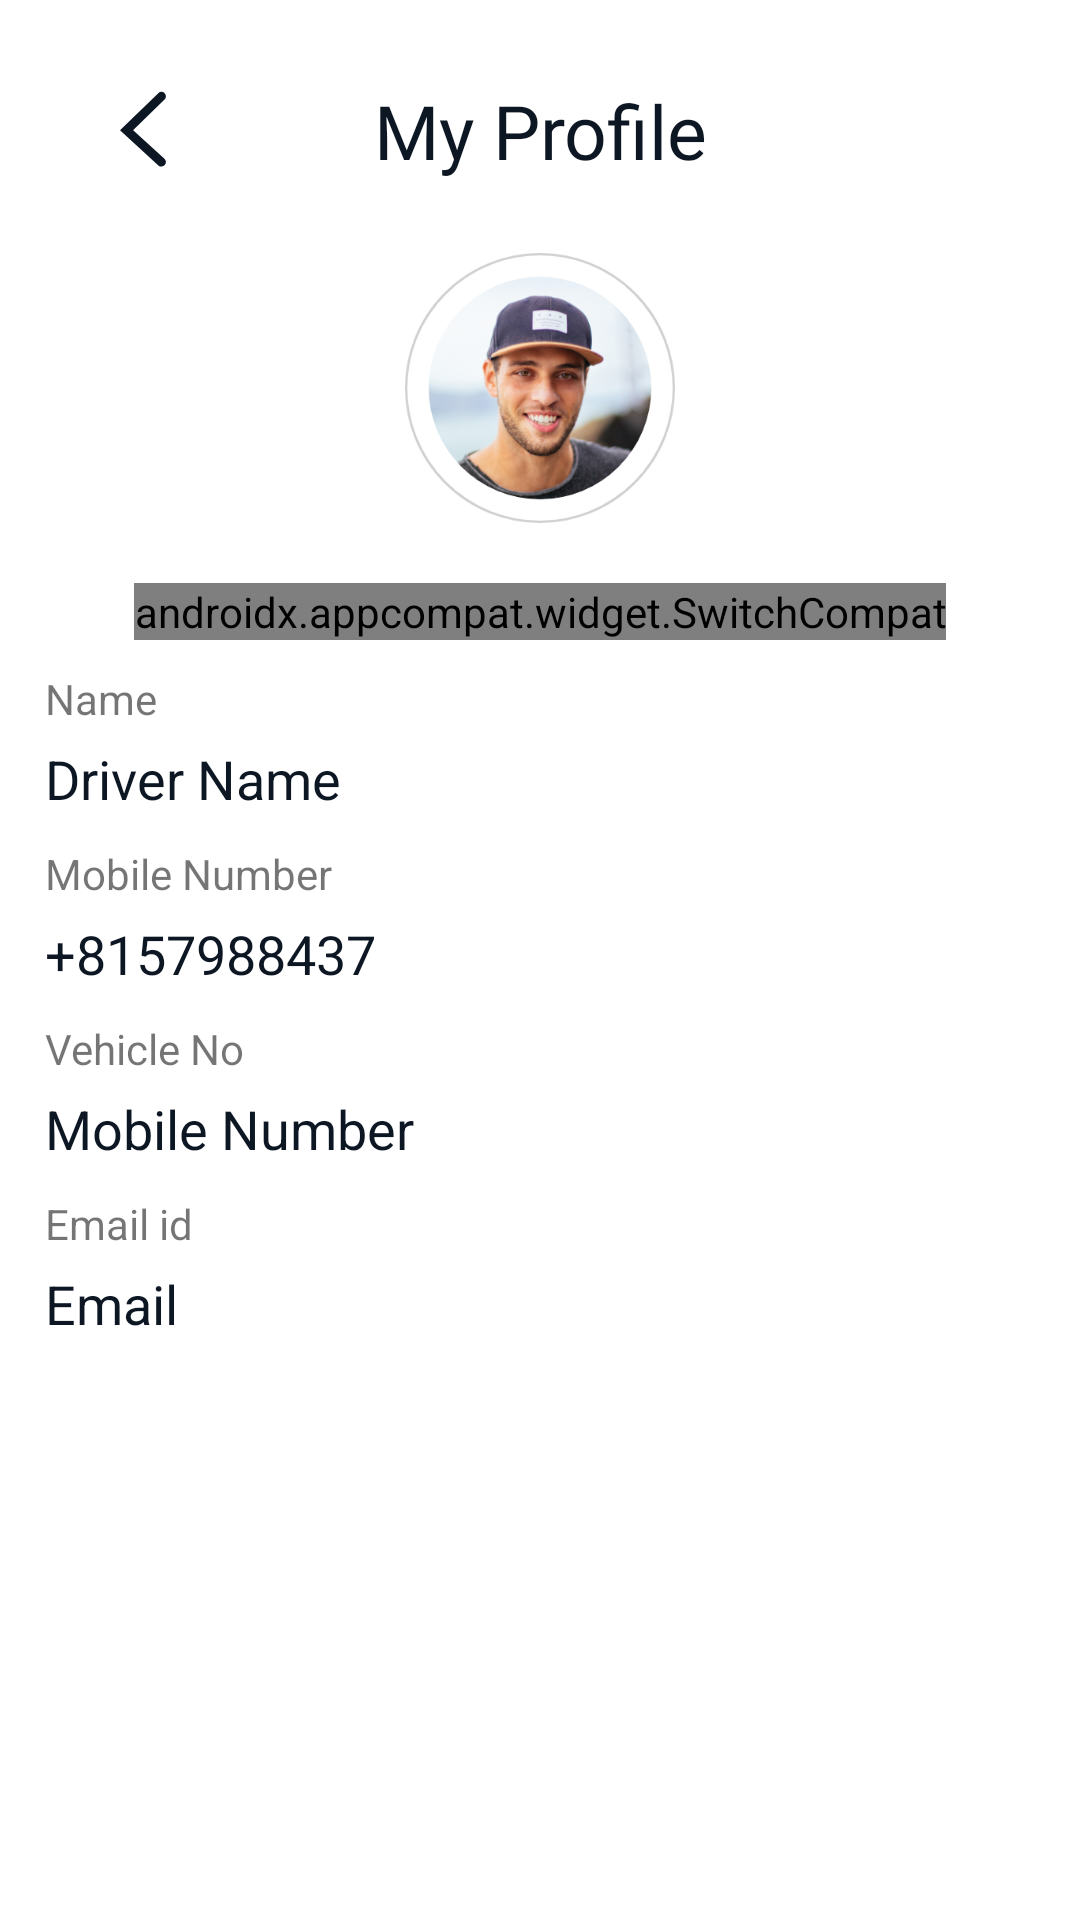

Screen size 1080*1920. Icon name, then its box in pixels as (x1, y1, x2, y2):
back arrow: (120, 91, 166, 167)
profile pic: (405, 253, 675, 523)
